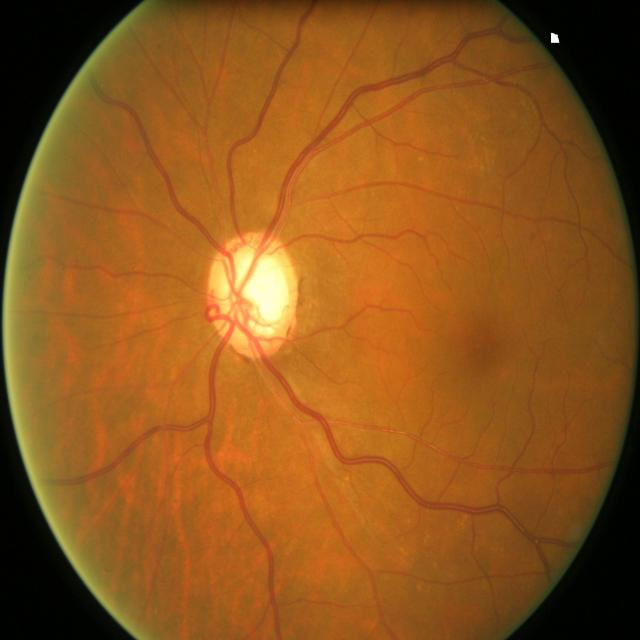OC: (226, 250, 290, 330)
OD: (202, 232, 298, 354)
